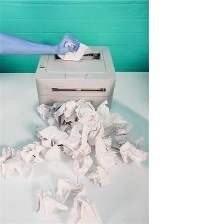book: (24, 96, 148, 172), (53, 174, 102, 223), (0, 144, 36, 183), (27, 186, 67, 218), (54, 37, 91, 66), (118, 138, 151, 168), (68, 149, 98, 177), (17, 136, 45, 165), (39, 141, 67, 165), (83, 163, 108, 184)
